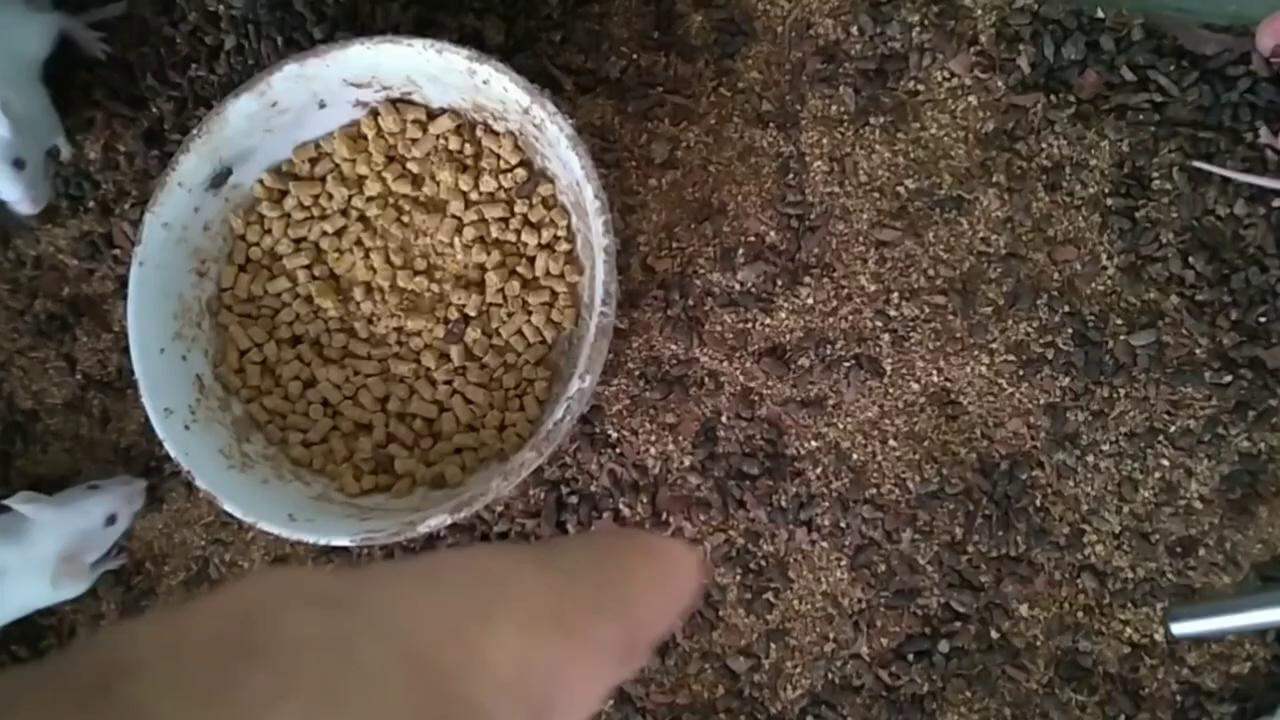rat: (0, 0, 114, 215), (0, 477, 146, 629)
